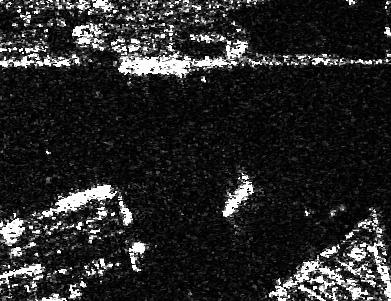ship: (117, 55, 193, 80), (55, 181, 114, 213), (218, 178, 257, 219)
